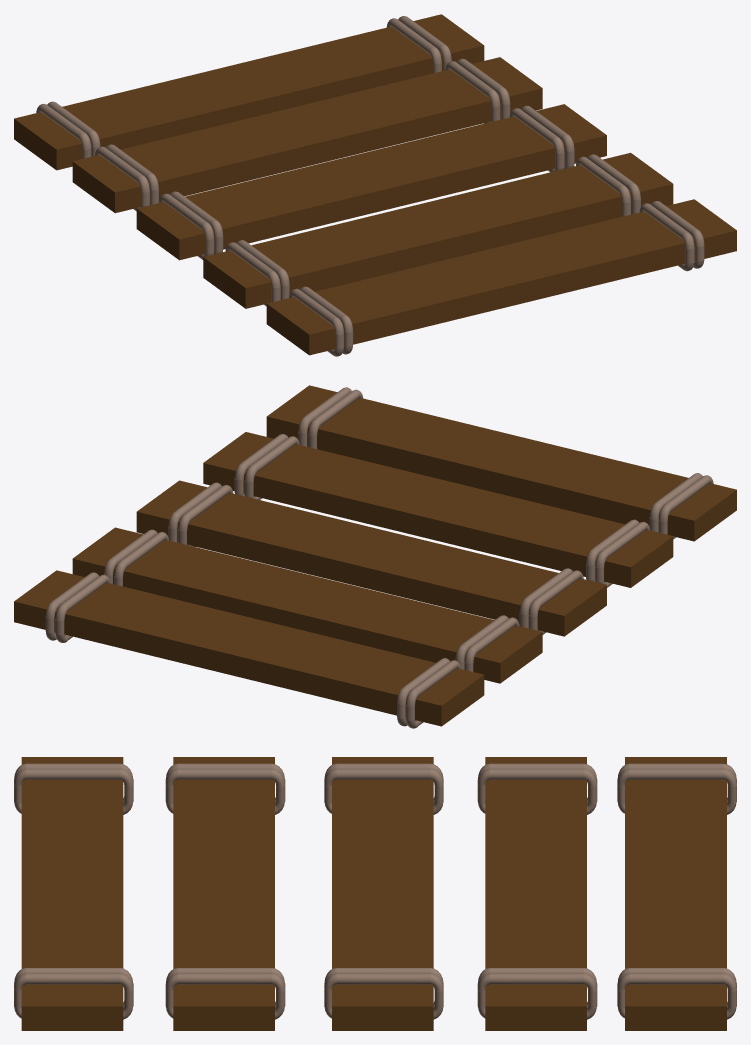
Rendered from swing_bridge_built_section.fbx.
3 renders of one model, top to bottom at view 1: azimuth 30°, elevation 25°; view 2: azimuth 150°, elevation 25°; view 3: azimuth 270°, elevation 25°, orthographic. The views are drawn at different scales.
Visible parts, largest first — view 1: pCylinder351; view 2: pCylinder351; view 3: pCylinder351.
Boxes of the visible parts, left/top/right/bottom form: pCylinder351: left=14, top=14, right=736, bottom=356; pCylinder351: left=14, top=385, right=736, bottom=728; pCylinder351: left=14, top=757, right=736, bottom=1030.
Bounding box in the file's own units: 7.33 × 0.6285 × 8.99.
